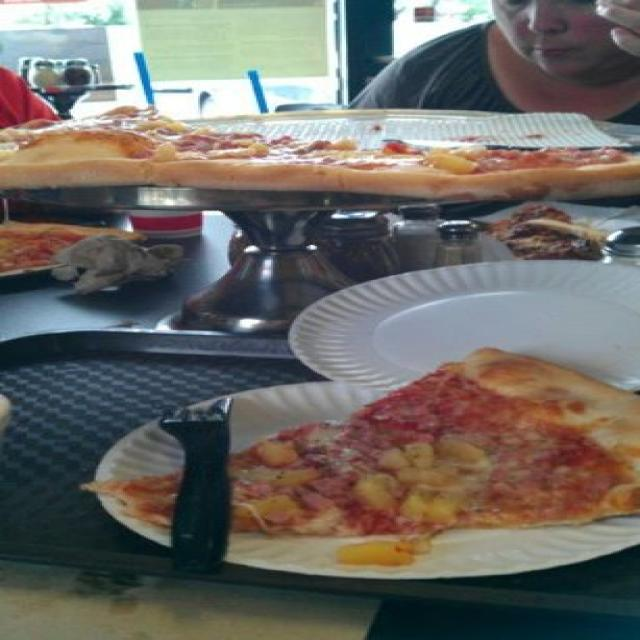Pizza: (83, 349, 638, 535), (1, 109, 638, 200)
